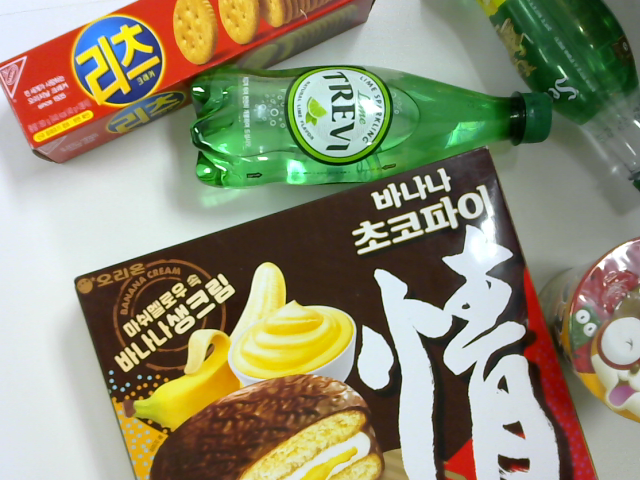Choco_Pie_Banana: (63, 146, 601, 480)
Raccoon: (520, 227, 640, 436)
Ritz_Cracker: (1, 1, 377, 171)
Seagram_Lemon_Carbonated_Water: (470, 1, 638, 212)
Treviraim_500ml: (182, 71, 565, 192)
